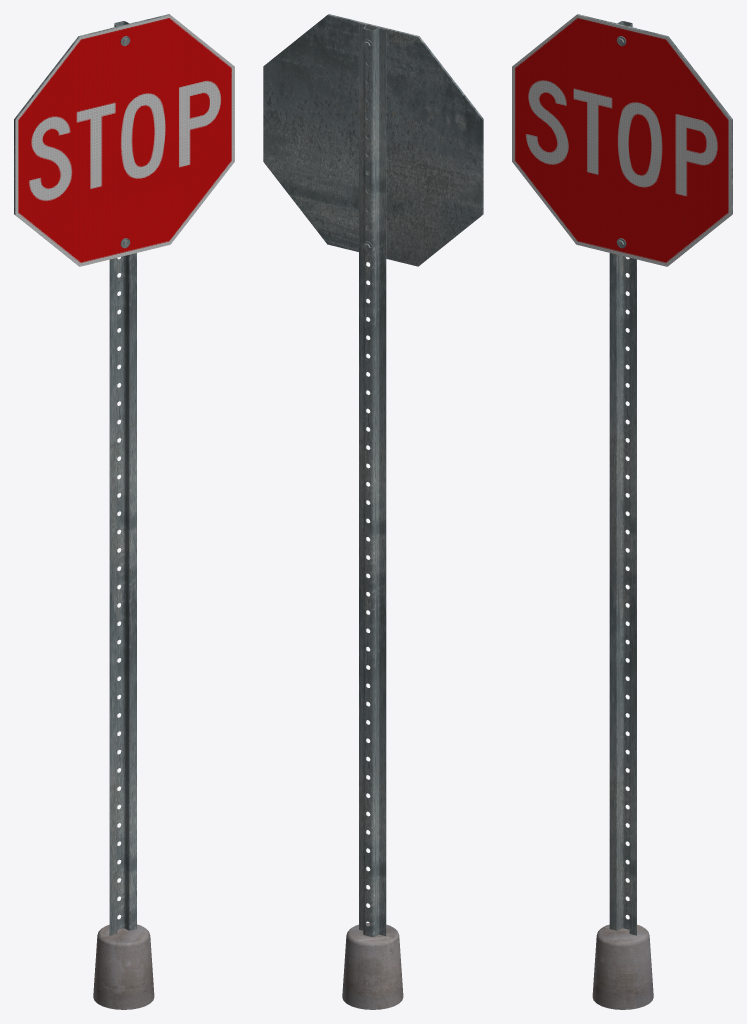
Rendered from stopsign_nsoc.obj.
3 renders of one model, left to right at view 1: azimuth 30°, elevation 25°; view 2: azimuth 150°, elevation 25°; view 3: azimuth 330°, elevation 25°, orthographic.
Visible parts, largest first — view 1: sign_stop; view 2: sign_stop; view 3: sign_stop.
Boxes of the visible parts, x1,y1,x2,y2 form: sign_stop: (14, 14, 234, 1009); sign_stop: (263, 14, 483, 1009); sign_stop: (512, 14, 732, 1009).
Bounding box in the file's own units: 24.19 × 102 × 5.84.
3 materials, 3 textured.
